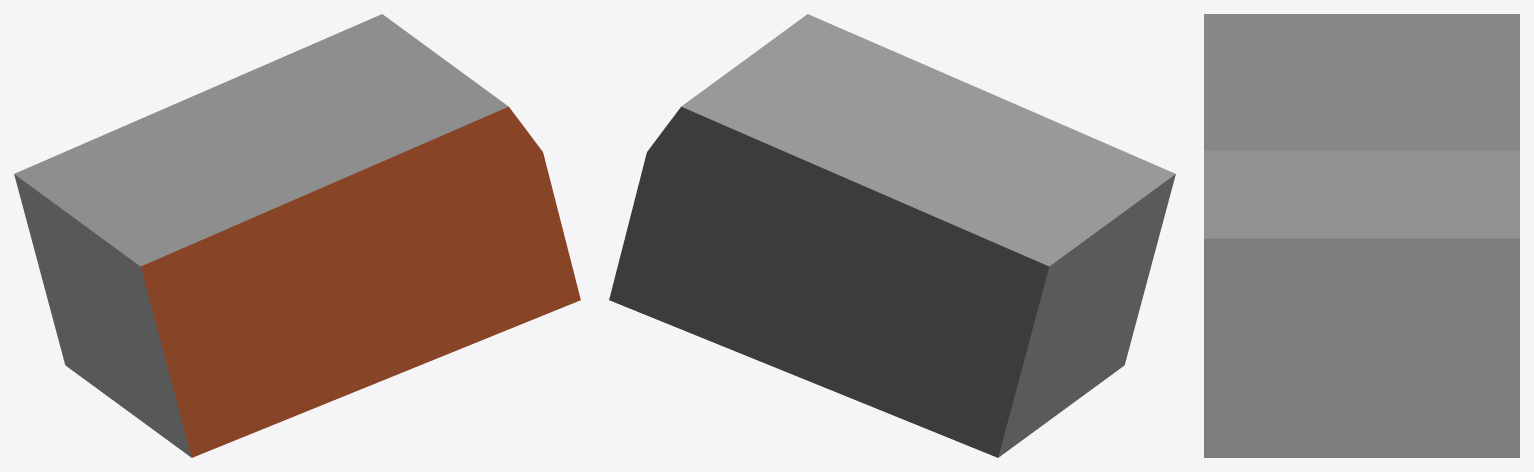
Rendered from construction_3183_assumed_A_Casa_h6m.obj.
3 renders of one model, left to right at view 1: azimuth 30°, elevation 25°; view 2: azimuth 150°, elevation 25°; view 3: azimuth 270°, elevation 25°, orthographic. The views are drawn at different scales.
Parts seen in each view (by area): view 1: construction_3183_assumed_A_Casa; view 2: construction_3183_assumed_A_Casa; view 3: construction_3183_assumed_A_Casa.
Boxes of the visible parts, left/top/right/bottom form: construction_3183_assumed_A_Casa: left=14, top=14, right=580, bottom=457; construction_3183_assumed_A_Casa: left=609, top=14, right=1175, bottom=457; construction_3183_assumed_A_Casa: left=1204, top=14, right=1519, bottom=457.
Size of the model in its own units: 12.05 by 7.17 by 6.
